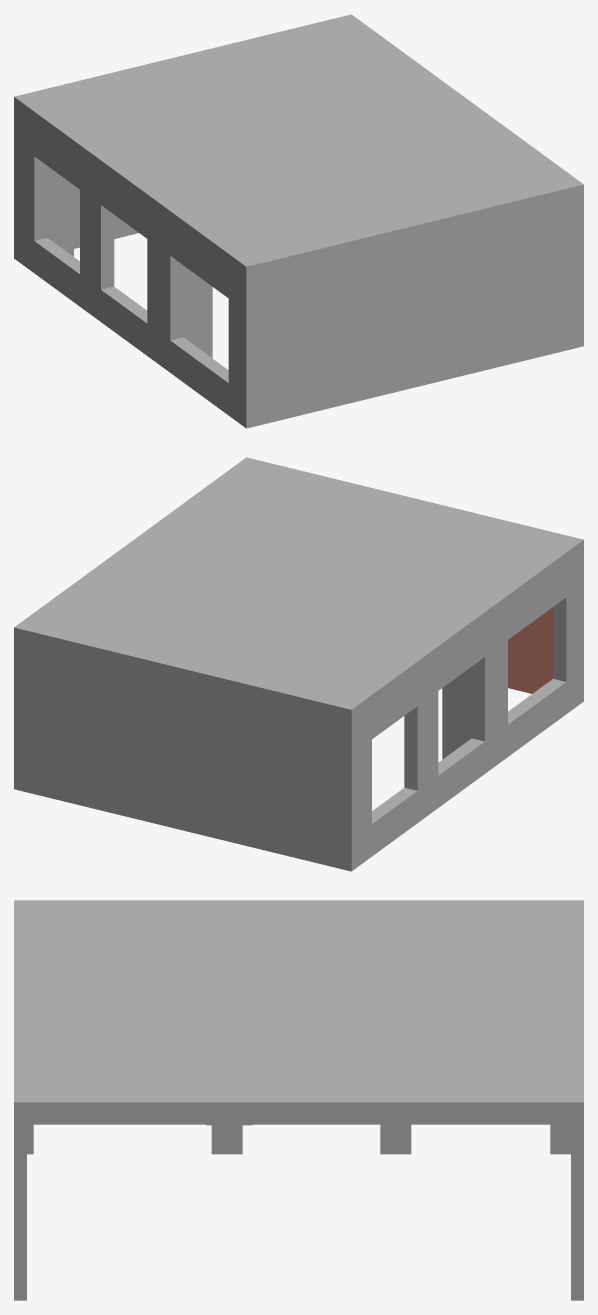
File: WALL.glb
The picture shows the model from 3 angles, top to bottom: view 1: azimuth 30°, elevation 25°; view 2: azimuth 150°, elevation 25°; view 3: azimuth 270°, elevation 25°; orthographic projection. The views are drawn at different scales.
Visible parts, largest first — view 1: 立方體.035, 平面.046, 平面.006, 立方體.036, 平面.005; view 2: 立方體.035, 平面.005, 平面.006, 平面.046; view 3: 立方體.035, 平面.046, 平面.006, 平面.005.
Part boxes in pixels (box(x1,y1,x2,y2)): 立方體.035: box(27, 14, 577, 259); 平面.046: box(241, 180, 583, 428); 平面.006: box(14, 93, 253, 424); 立方體.036: box(47, 166, 73, 256); 平面.005: box(74, 185, 138, 248); 立方體.035: box(14, 461, 564, 724); 平面.005: box(14, 645, 338, 868); 平面.006: box(338, 540, 578, 871); 平面.046: box(241, 457, 583, 704); 立方體.035: box(27, 908, 583, 1154); 平面.046: box(14, 900, 33, 1300); 平面.006: box(27, 900, 583, 1125); 平面.005: box(550, 1124, 583, 1300).
Size of the model in its own units: 603 by 276 by 719.
